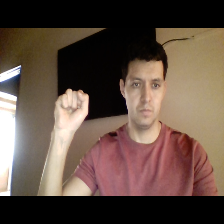9D: (51, 85, 92, 137)
